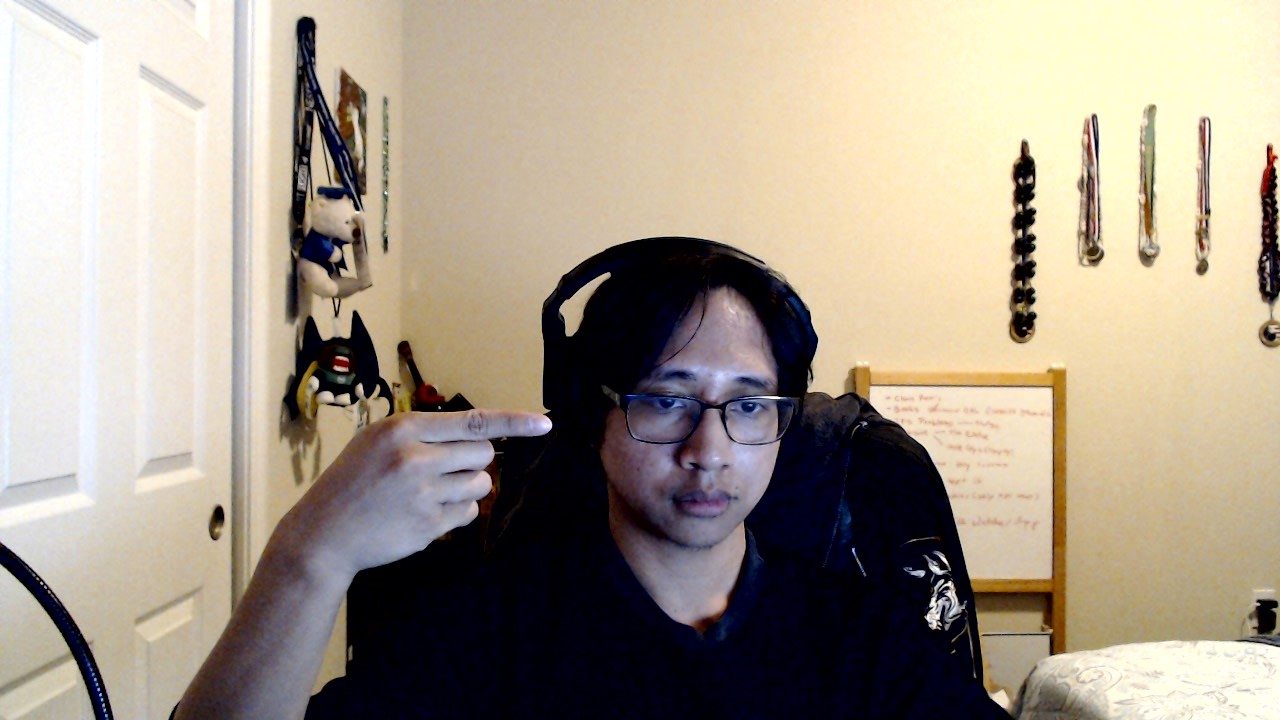g: (254, 407, 554, 574)
